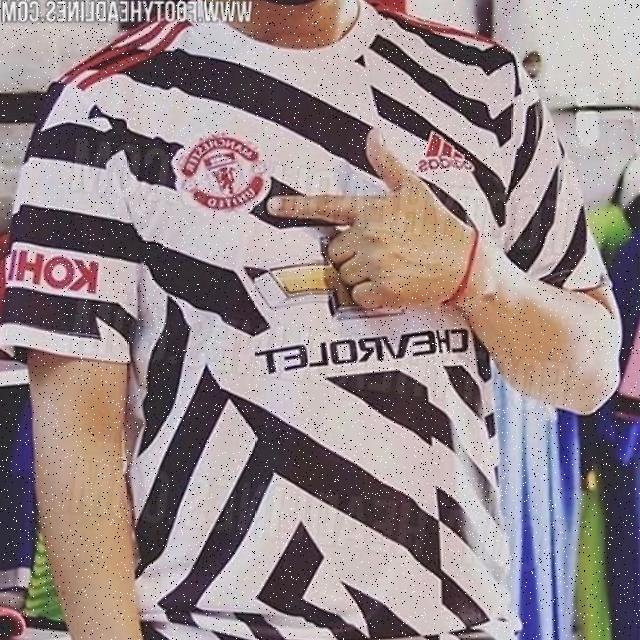Adidas: (417, 130, 477, 174)
Chevrolet: (257, 317, 471, 379)
